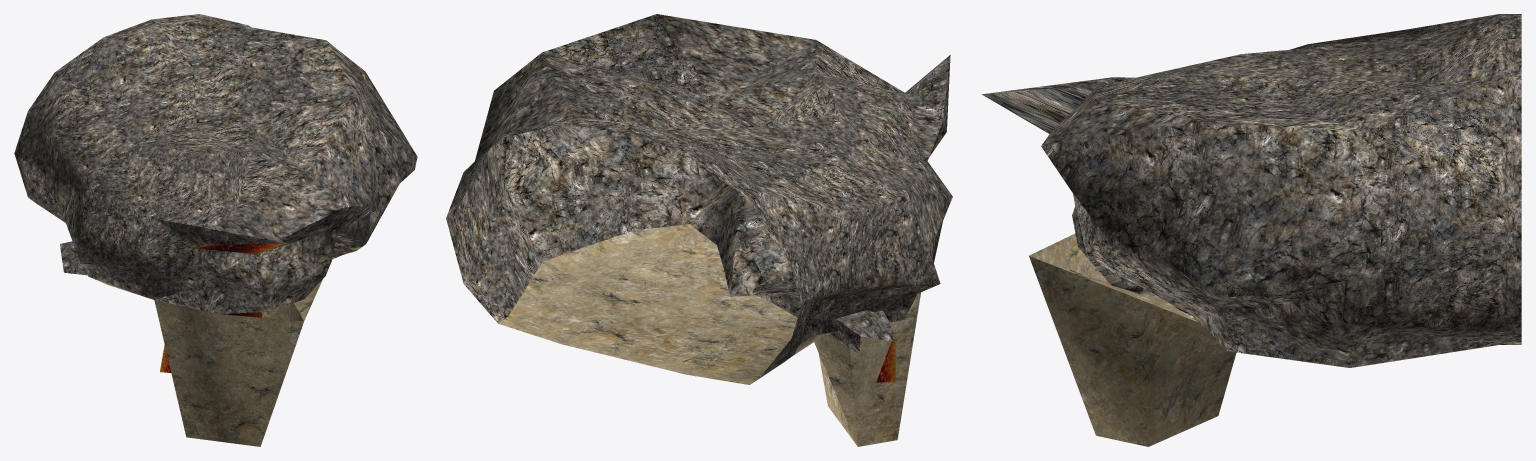
Rendered from pir_m_are_cav_deadend150_lava.fbx.
3 renders of one model, left to right at view 1: azimuth 30°, elevation 25°; view 2: azimuth 150°, elevation 25°; view 3: azimuth 270°, elevation 25°, orthographic. The views are drawn at different scales.
Visible parts, largest first — view 1: deadend150_lava_wall, deadend150_lava_floor, lava, rock, deadend150_lava_hole; view 2: deadend150_lava_wall, deadend150_lava_hole, deadend150_lava_floor, rock, lava; view 3: deadend150_lava_wall, deadend150_lava_floor, deadend150_lava_hole.
Boxes of the visible parts, left/top/right/bottom form: deadend150_lava_wall: left=14, top=14, right=417, bottom=313; deadend150_lava_floor: left=154, top=300, right=303, bottom=446; lava: left=160, top=243, right=285, bottom=372; rock: left=60, top=241, right=87, bottom=275; deadend150_lava_hole: left=63, top=221, right=322, bottom=320; deadend150_lava_wall: left=446, top=14, right=952, bottom=382; deadend150_lava_hole: left=498, top=224, right=917, bottom=384; deadend150_lava_floor: left=814, top=292, right=920, bottom=446; rock: left=752, top=280, right=897, bottom=354; lava: left=876, top=331, right=895, bottom=382; deadend150_lava_wall: left=982, top=14, right=1521, bottom=367; deadend150_lava_floor: left=1029, top=233, right=1236, bottom=446; deadend150_lava_hole: left=1031, top=256, right=1198, bottom=322.
Bounding box in the file's own units: 11664 × 10678 × 12219.
3 materials, 3 textured.
